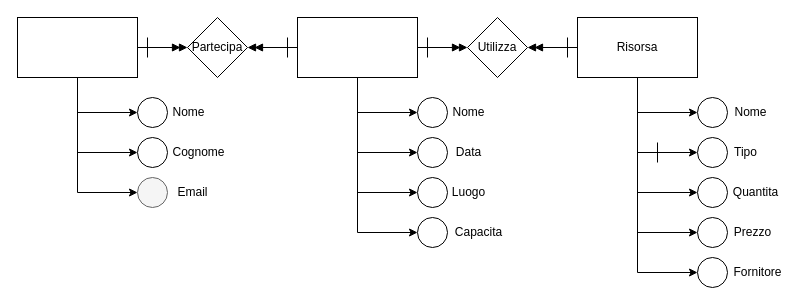
Image size: 810x305. Some labels were removed from this diagram. The centre of each missing label's shape, as x and y in pixels:
"Evento" belongs at pixel 357 47.
"Partecipante" belongs at pixel 77 47.
